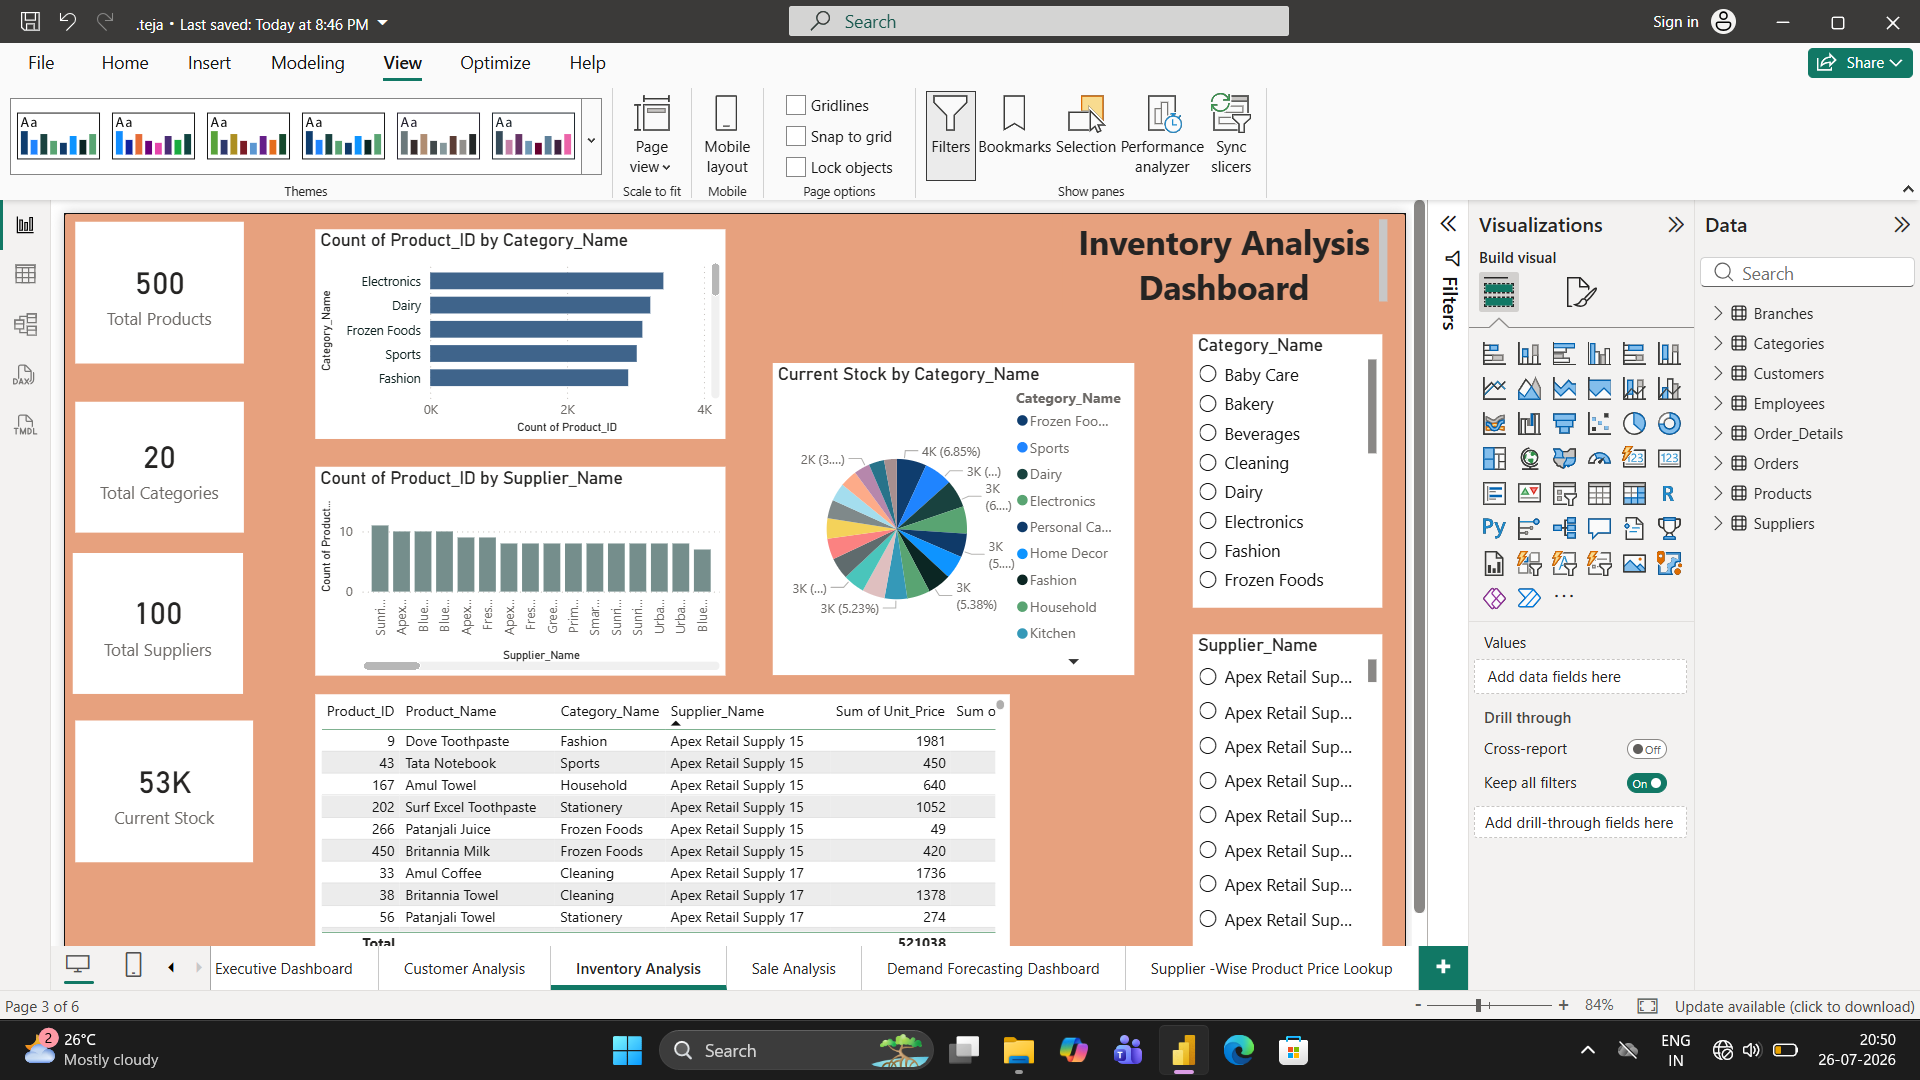

What the dashboard file says about the page in this screenshot:
{"tool":"powerbi","page":{"name":"Inventory Analysis","canvas":[1280,720],"ordinal":2},"visuals":[{"type":"card","fields":{"Values":["Products.Total Products"]},"box":[10.5,8.4,160.6,135.4],"z":0},{"type":"card","fields":{"Values":["Categories.Total Categories"]},"box":[10.5,179.4,160.6,124.9],"z":1000},{"type":"card","fields":{"Values":["Suppliers.Total Suppliers"]},"box":[8.4,324.2,162.6,134.3],"z":2000},{"type":"card","fields":{"Values":["Products.Total Stock"]},"box":[10.5,483.8,170,135.4],"z":3000},{"type":"clusteredBarChart","fields":{"Category":["Categories.Category_Name"],"Y":["CountNonNull(Order_Details.Product_ID)"]},"box":[240.1,15.7,390.9,200.3],"z":4000},{"type":"clusteredColumnChart","fields":{"Category":["Suppliers.Supplier_Name"],"Y":["CountNonNull(Products.Product_ID)"]},"box":[240.1,242.5,390.9,199.1],"z":5000},{"type":"pieChart","fields":{"Category":["Categories.Category_Name"],"Y":["Products.Total Stock"]},"box":[675.6,143.6,345,298],"z":6000},{"type":"tableEx","fields":{"Values":["Products.Product_ID","Products.Product_Name","Categories.Category_Name","Suppliers.Supplier_Name","Sum(Products.Unit_Price)","Sum(Products.Stock)"]},"box":[239.6,458.9,662.8,261.1],"z":7000},{"type":"listSlicer","fields":{"Values":["Categories.Category_Name"]},"box":[1076.1,115.8,181,260.6],"z":8000},{"type":"listSlicer","fields":{"Values":["Suppliers.Supplier_Name"]},"box":[1076.1,401.7,181,300.4],"z":9000},{"type":"textbox","box":[951.9,1.2,314.9,91.7],"z":10000}]}

Visuals, with their boxes on the page's 1280x720 design canvas (x1, y1, x2, y2). These are canvas units, not pixel positions in the 1920x1080 screenshot, which may show the page scaled, cropped or inside an application window:
card - Products.Total Products: [10, 8, 171, 144]
card - Categories.Total Categories: [10, 179, 171, 304]
card - Suppliers.Total Suppliers: [8, 324, 171, 458]
card - Products.Total Stock: [10, 484, 180, 619]
clusteredBarChart - Categories.Category_Name x CountNonNull(Order_Details.Product_ID): [240, 16, 631, 216]
clusteredColumnChart - Suppliers.Supplier_Name x CountNonNull(Products.Product_ID): [240, 242, 631, 442]
pieChart - Categories.Category_Name x Products.Total Stock: [676, 144, 1021, 442]
tableEx - Products.Product_ID x Products.Product_Name: [240, 459, 902, 720]
listSlicer - Categories.Category_Name: [1076, 116, 1257, 376]
listSlicer - Suppliers.Supplier_Name: [1076, 402, 1257, 702]
textbox: [952, 1, 1267, 93]
